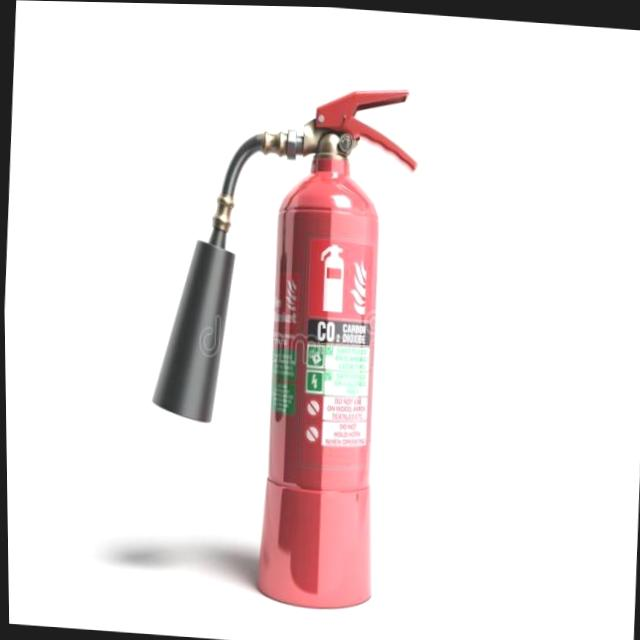FireExtinguisher: (131, 66, 432, 622)
